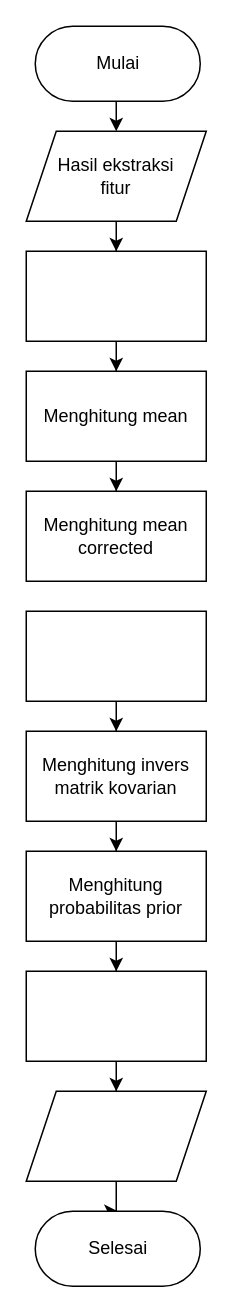
Image size: 233x1313. Some labels were removed from this diagram. The shapes that lost their labels are listed below. From the top down, each one's centre as x and y in pixels, then its label:
point (115, 295): Memisahkan x berdasarkan kelas
point (115, 655): Menghitung matrik kovarian
point (115, 1015): Menghitung fungsi diskriminan
point (115, 1135): Hasil klasifikasi
